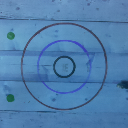Axe Tip: (120, 82, 128, 85)
